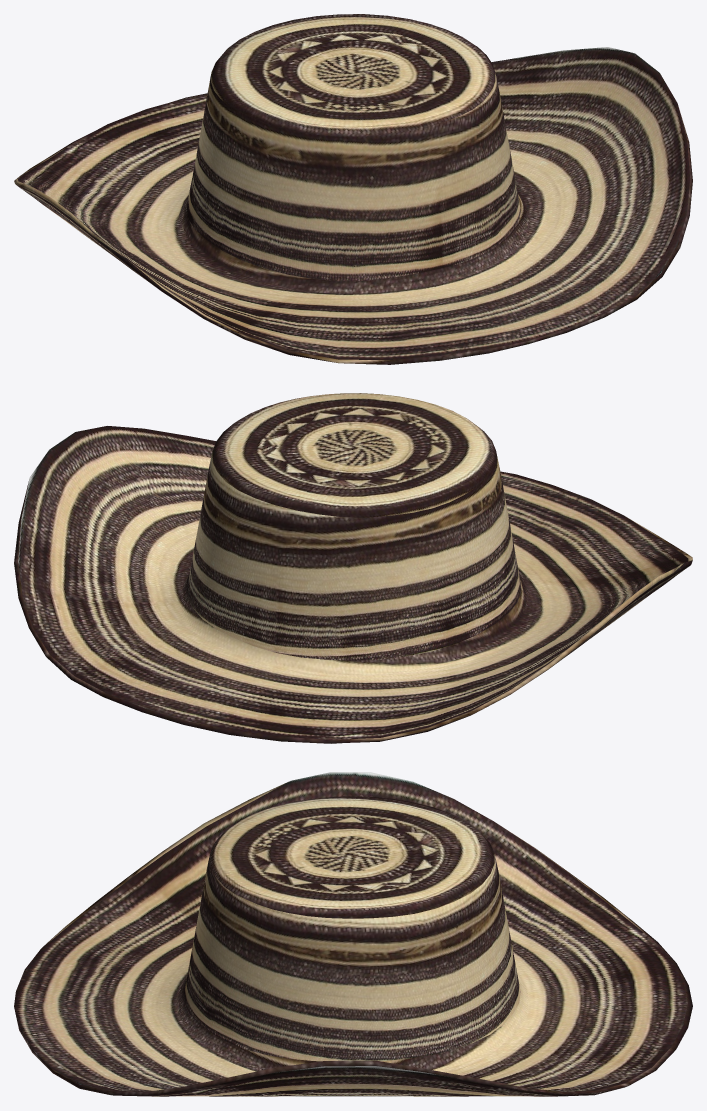
The model's file is sombrero_vueltiao_colombia.glb.
The picture shows the model from 3 angles, top to bottom: view 1: azimuth 30°, elevation 25°; view 2: azimuth 150°, elevation 25°; view 3: azimuth 270°, elevation 25°; orthographic projection.
Visible parts, largest first — view 1: Retopo_Sombrero_Vueltiao[1]; view 2: Retopo_Sombrero_Vueltiao[1]; view 3: Retopo_Sombrero_Vueltiao[1].
Part boxes in pixels (box(x1,y1,x2,y2)): Retopo_Sombrero_Vueltiao[1]: box(14, 14, 692, 364); Retopo_Sombrero_Vueltiao[1]: box(14, 393, 692, 743); Retopo_Sombrero_Vueltiao[1]: box(14, 772, 692, 1096).
Bounding box in the file's own units: 0.4888 × 0.1217 × 0.4861.
1 material, 1 textured.
